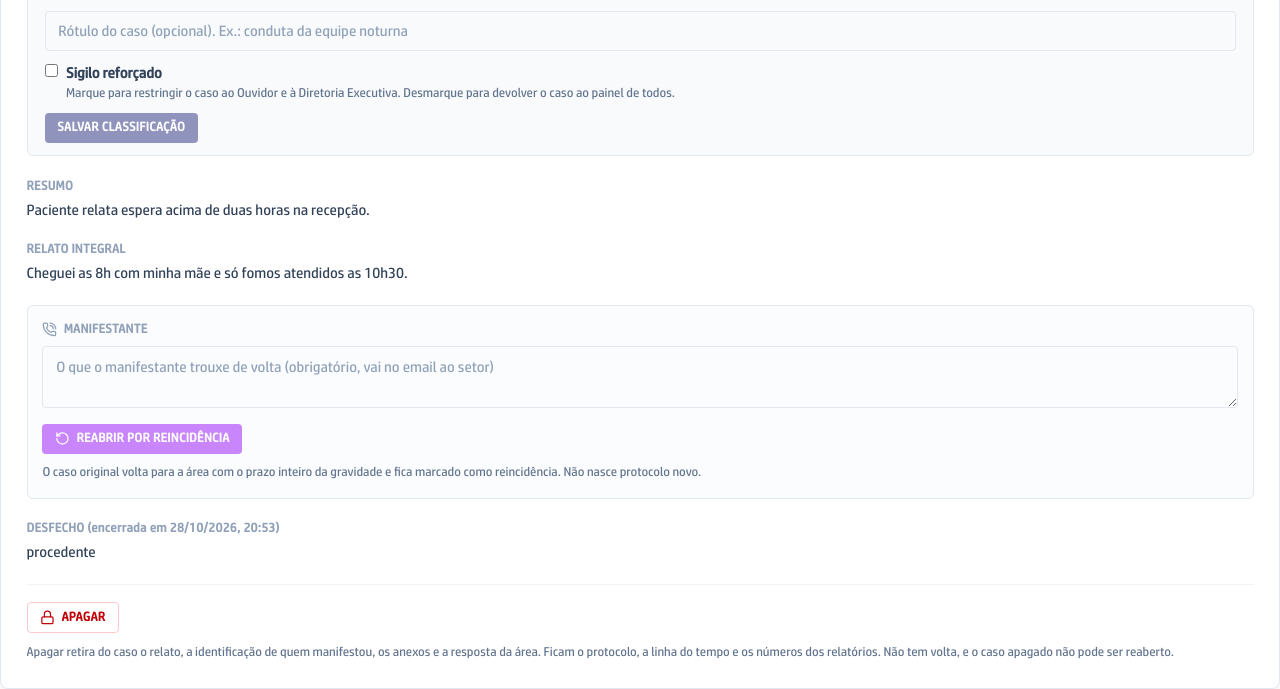
Test: a confirmação com motivo obrigatório (issue #595) › a confirmação avisa que o motivo não sai mais, e pede para não escrever quem manifestou
The image size is (1280, 689).
(page scrolled)
Click the button "Apagar".
click(73, 617)  # box [26,602,119,633]
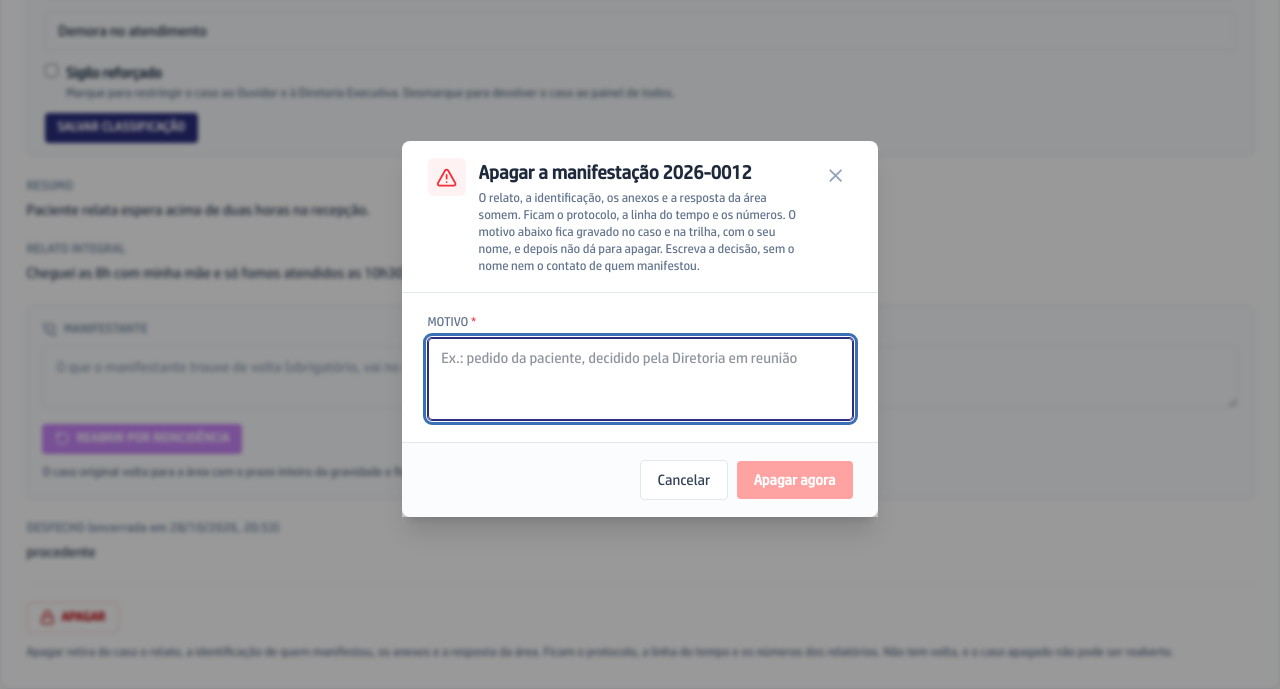
Check: the text "sem o nome nem o contato de quem manifestou" is shown, box [478,190,796,273]
